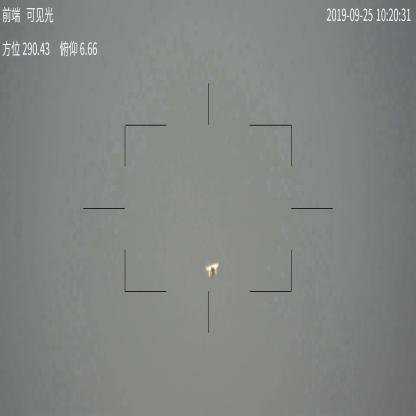uav: (204, 259, 221, 279)
